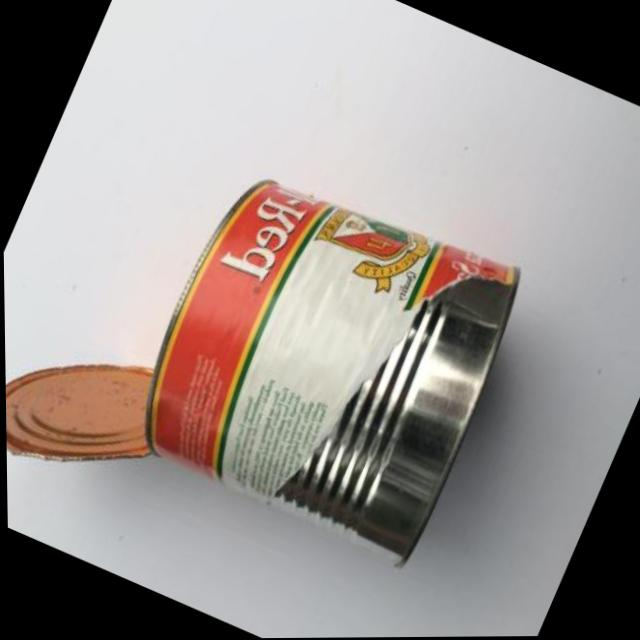metal: (8, 112, 543, 635)
